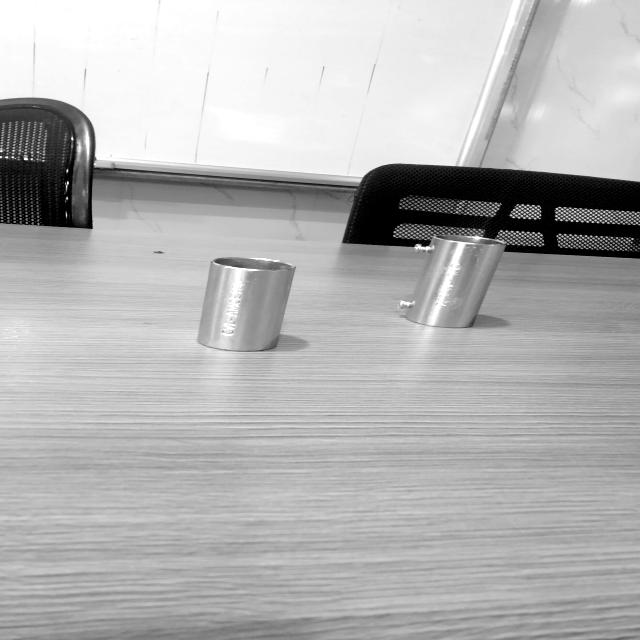Co_Lon: (390, 217, 506, 341)
Co_Nho: (195, 249, 296, 360)
